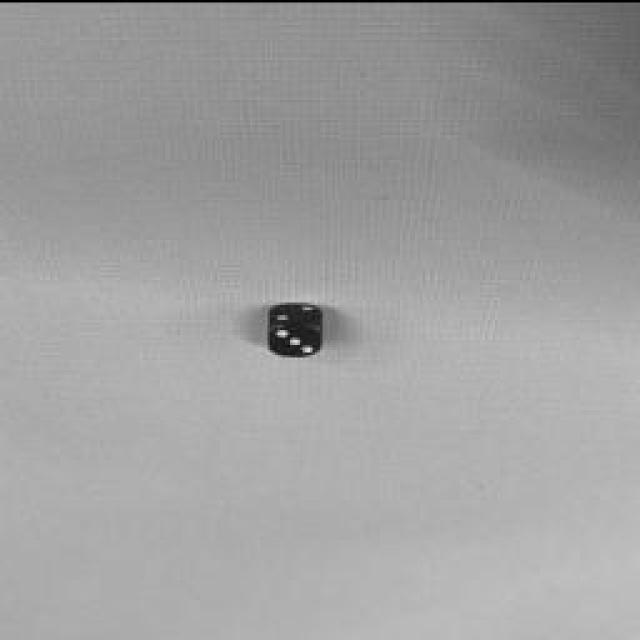dice_3: (269, 324, 321, 356)
